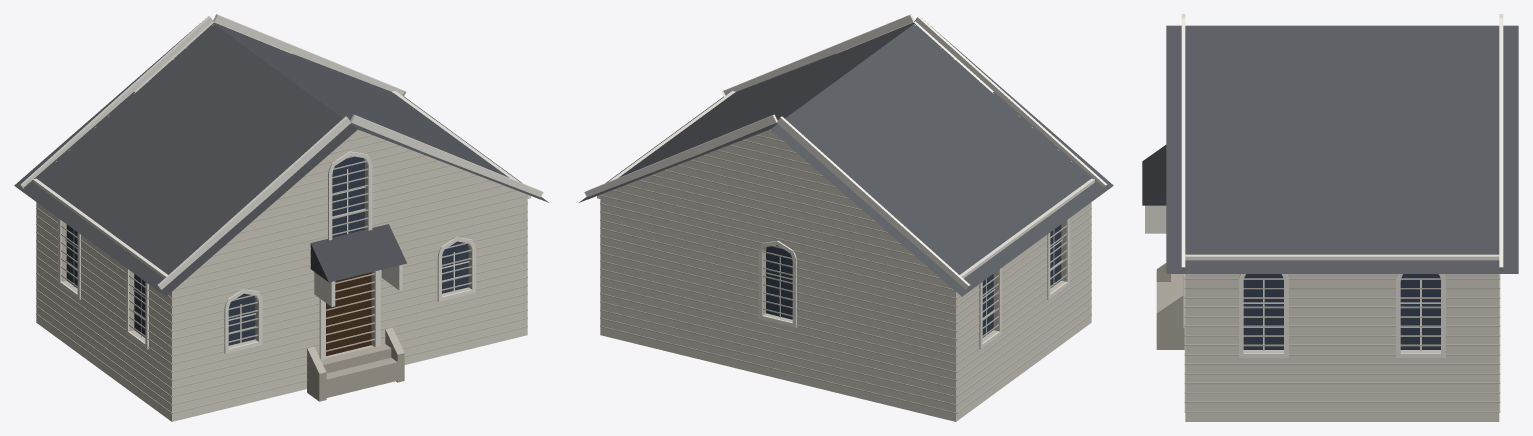
File: ch-duncan-chapel-1913.glb
3 renders of one model, left to right at view 1: azimuth 30°, elevation 25°; view 2: azimuth 150°, elevation 25°; view 3: azimuth 270°, elevation 25°, orthographic. The views are drawn at different scales.
Parts seen in each view (by area): view 1: ch_brick, ch_roof, ch_brick2, ch_trim, ch_stain, ch_conc, ch_roof2, ch_door; view 2: ch_brick, ch_roof, ch_brick2, ch_trim, ch_stain; view 3: ch_roof, ch_brick, ch_brick2, ch_trim, ch_stain, ch_conc, ch_roof2.
Boxes of the visible parts, left/top/right/bottom form: ch_brick: left=36, top=130, right=527, bottom=421; ch_roof: left=14, top=18, right=548, bottom=296; ch_brick2: left=36, top=24, right=527, bottom=413; ch_trim: left=20, top=14, right=543, bottom=360; ch_stain: left=66, top=156, right=468, bottom=345; ch_conc: left=307, top=327, right=404, bottom=401; ch_roof2: left=310, top=224, right=406, bottom=282; ch_door: left=326, top=272, right=371, bottom=356; ch_brick: left=600, top=130, right=1091, bottom=421; ch_roof: left=579, top=18, right=1113, bottom=296; ch_brick2: left=600, top=24, right=1091, bottom=413; ch_trim: left=584, top=14, right=1107, bottom=349; ch_stain: left=766, top=224, right=1061, bottom=337; ch_roof: left=1166, top=25, right=1518, bottom=273; ch_brick: left=1185, top=274, right=1499, bottom=421; ch_brick2: left=1184, top=274, right=1500, bottom=412; ch_trim: left=1145, top=14, right=1503, bottom=357; ch_stain: left=1243, top=274, right=1440, bottom=349; ch_conc: left=1156, top=263, right=1184, bottom=349; ch_roof2: left=1142, top=145, right=1166, bottom=205.
Bounding box in the file's own units: 10.81 × 7.18 × 7.9.
